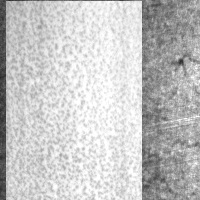crazing: (3, 65, 179, 122), (47, 145, 183, 199), (37, 1, 163, 51), (2, 3, 53, 62)
pitted_surface: (6, 1, 142, 200)
